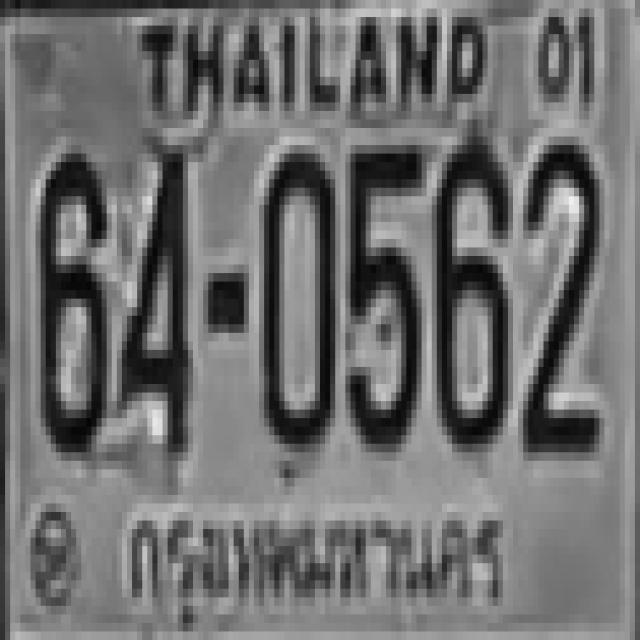0: (259, 145, 330, 444)
2: (518, 137, 594, 452)
4: (117, 141, 188, 456)
5: (343, 141, 419, 448)
6: (432, 128, 503, 444), (36, 145, 101, 444)
Bangkok: (116, 491, 524, 640)
